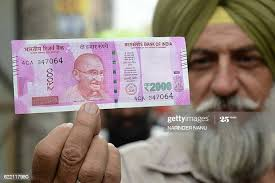twoThousand: (28, 55, 177, 96)
